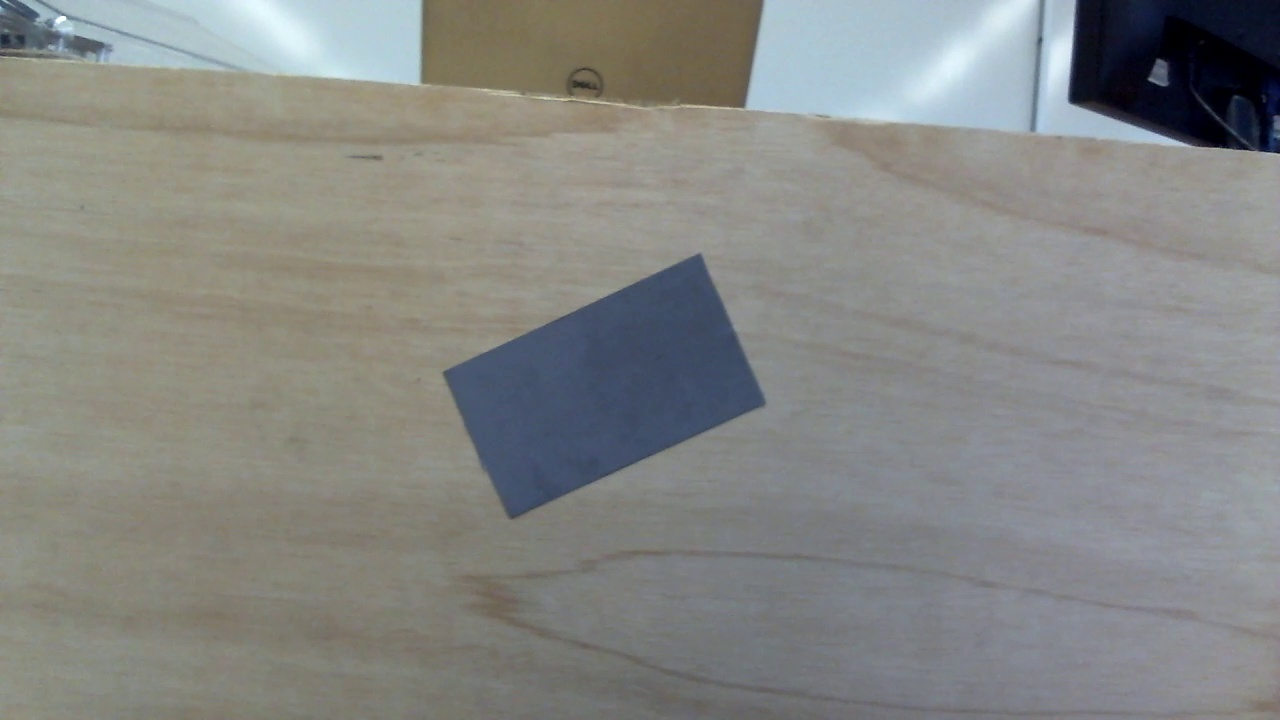Tape: (444, 253, 768, 519)
